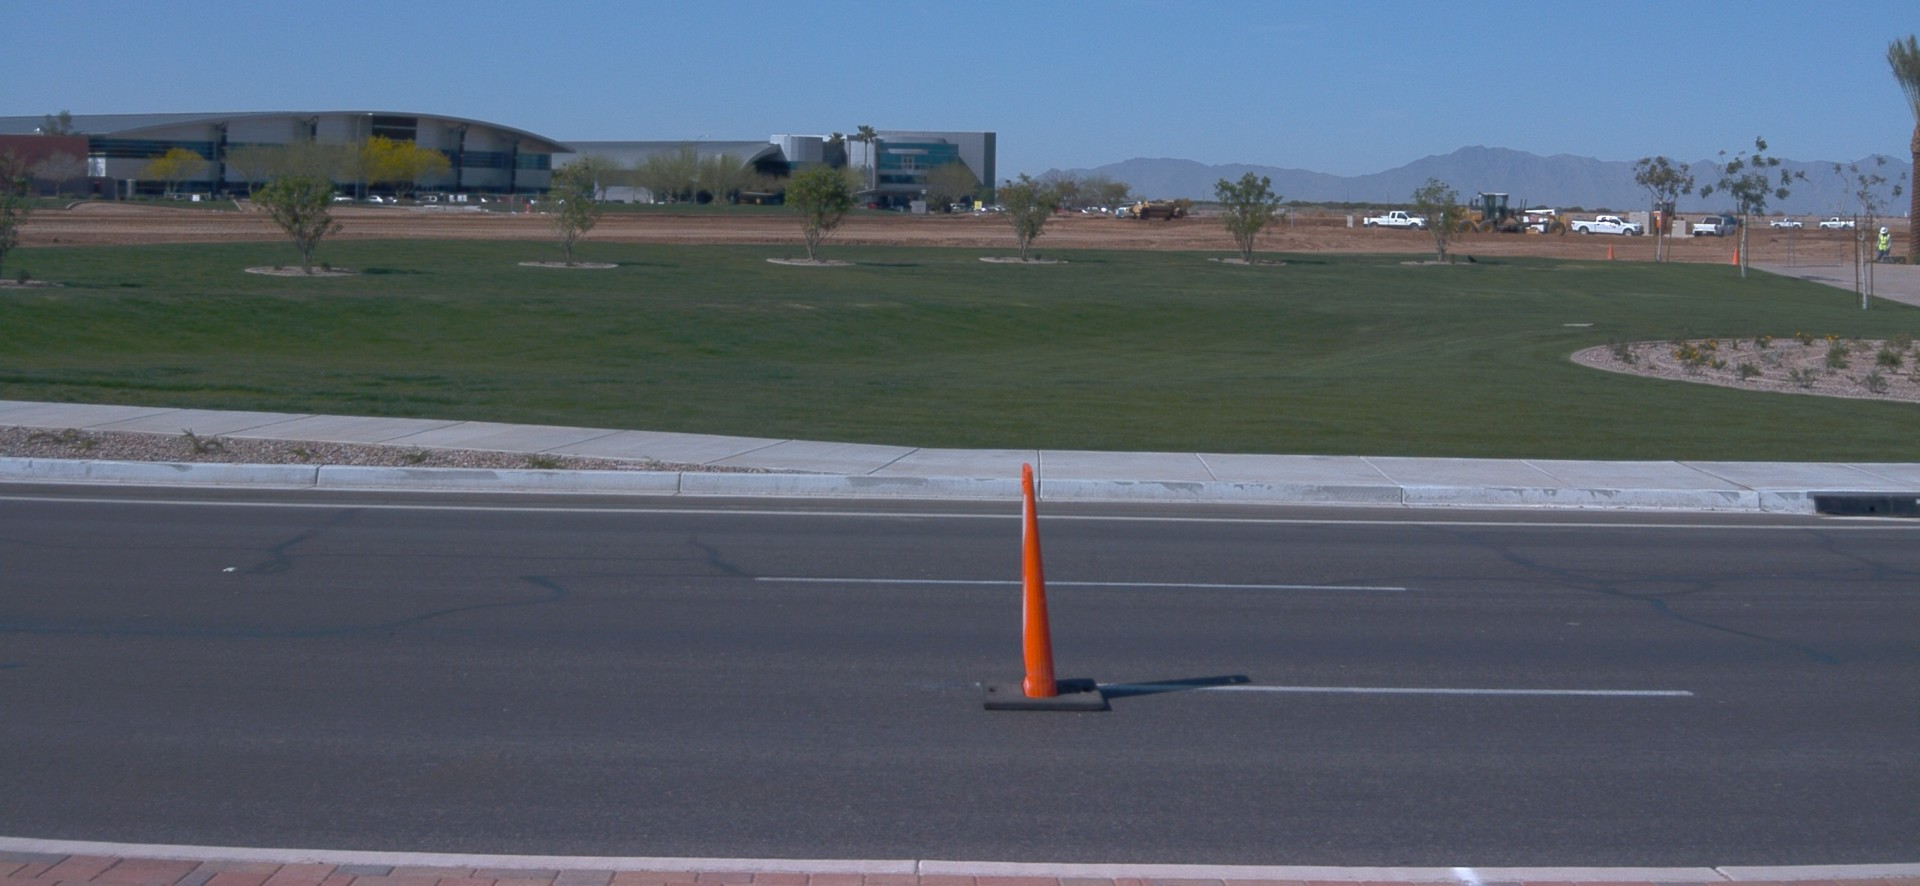TYPE_PEDESTRIAN: (1873, 225, 1892, 265)
TYPE_VEHICLE: (1451, 189, 1570, 238), (1570, 216, 1644, 237), (1363, 210, 1431, 232), (1131, 196, 1183, 217), (1519, 212, 1563, 236), (1692, 216, 1737, 237), (1653, 198, 1676, 230), (1817, 217, 1858, 231), (1771, 218, 1809, 231), (1114, 201, 1135, 219), (1724, 219, 1746, 230), (416, 192, 439, 202), (331, 192, 352, 202), (371, 192, 387, 202), (559, 197, 569, 202), (1442, 212, 1447, 217)
